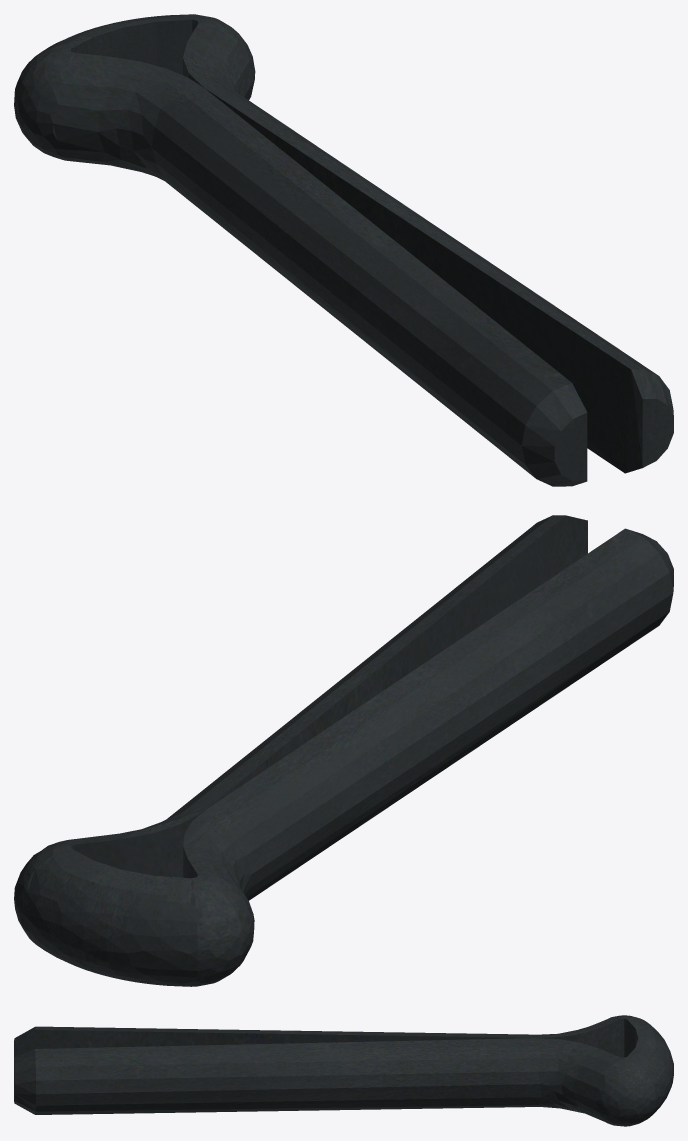
The model's file is Firing_Pin_Retaining_Pin.dae.
3 views of the same model, one above another, from view 1: azimuth 30°, elevation 25°; view 2: azimuth 150°, elevation 25°; view 3: azimuth 270°, elevation 25° (orthographic). The views are drawn at different scales.
Parts seen in each view (by area): view 1: Firing_Pin_Retaining_Pin; view 2: Firing_Pin_Retaining_Pin; view 3: Firing_Pin_Retaining_Pin.
Part boxes in pixels (box(x1,y1,x2,y2)): Firing_Pin_Retaining_Pin: box(14, 14, 673, 486); Firing_Pin_Retaining_Pin: box(14, 515, 673, 986); Firing_Pin_Retaining_Pin: box(14, 1015, 673, 1126).
Bounding box in the file's own units: 0.00505 × 0.0203 × 0.00223.
Materials: 1 (1 with a texture image).
